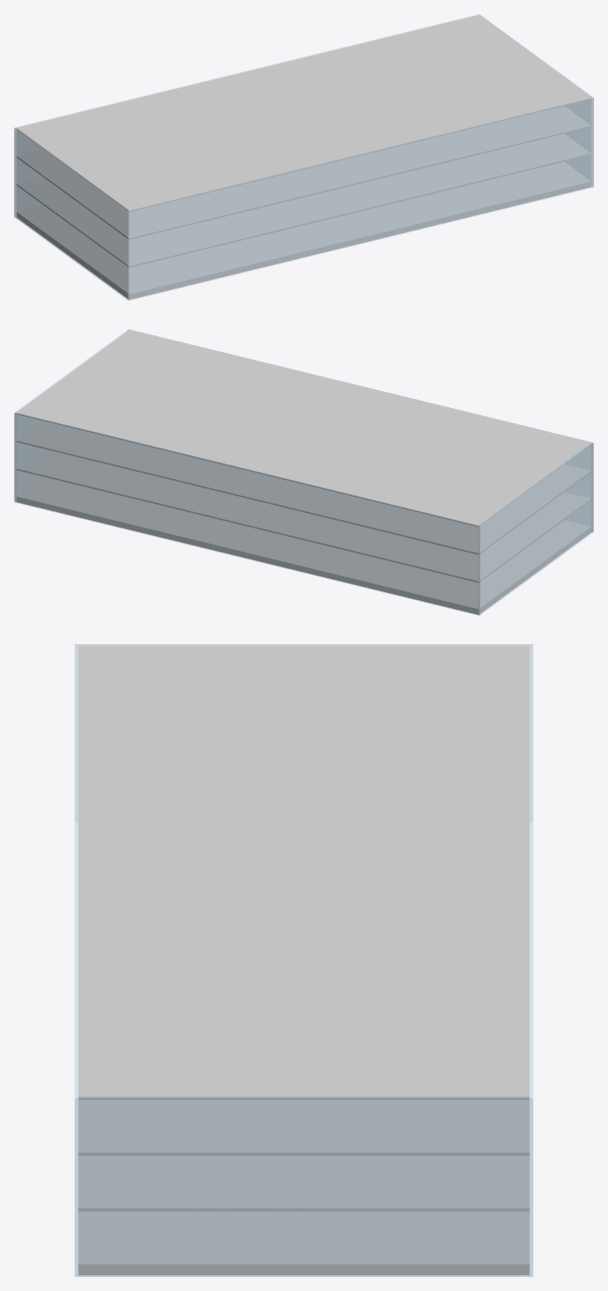
File: cleanroom.glb
The picture shows the model from 3 angles, top to bottom: view 1: azimuth 30°, elevation 25°; view 2: azimuth 150°, elevation 25°; view 3: azimuth 270°, elevation 25°; orthographic projection. The views are drawn at different scales.
Parts seen in each view (by area): view 1: 3DGeom-5, 3DGeom-8, 3DGeom-1, 3DGeom-2, 3DGeom-3, 3DGeom-7, 3DGeom-9, 3DGeom-6; view 2: 3DGeom-5, 3DGeom-9, 3DGeom-1, 3DGeom-2, 3DGeom-3, 3DGeom-7, 3DGeom-8, 3DGeom-6; view 3: 3DGeom-5, 3DGeom-6, 3DGeom-1, 3DGeom-2, 3DGeom-3, 3DGeom-8, 3DGeom-9, 3DGeom-7.
Part boxes in pixels (bbox=[...]): 3DGeom-5: bbox=[16, 15, 591, 211]; 3DGeom-8: bbox=[127, 97, 593, 300]; 3DGeom-1: bbox=[17, 162, 591, 299]; 3DGeom-2: bbox=[16, 134, 591, 267]; 3DGeom-3: bbox=[16, 106, 591, 239]; 3DGeom-7: bbox=[15, 128, 128, 299]; 3DGeom-9: bbox=[14, 14, 479, 217]; 3DGeom-6: bbox=[479, 15, 592, 186]; 3DGeom-5: bbox=[16, 330, 591, 526]; 3DGeom-9: bbox=[14, 412, 480, 615]; 3DGeom-1: bbox=[16, 477, 591, 614]; 3DGeom-2: bbox=[16, 449, 591, 582]; 3DGeom-3: bbox=[16, 421, 591, 554]; 3DGeom-7: bbox=[479, 443, 592, 614]; 3DGeom-8: bbox=[128, 329, 593, 532]; 3DGeom-6: bbox=[15, 330, 128, 501]; 3DGeom-5: bbox=[78, 645, 529, 1099]; 3DGeom-6: bbox=[78, 1096, 529, 1276]; 3DGeom-1: bbox=[78, 1212, 529, 1275]; 3DGeom-2: bbox=[78, 1156, 529, 1211]; 3DGeom-3: bbox=[78, 1100, 529, 1155]; 3DGeom-8: bbox=[74, 644, 78, 1276]; 3DGeom-9: bbox=[529, 644, 533, 1276]; 3DGeom-7: bbox=[78, 644, 529, 645].
Size of the model in its own units: 87.2 by 16 by 37.2.
